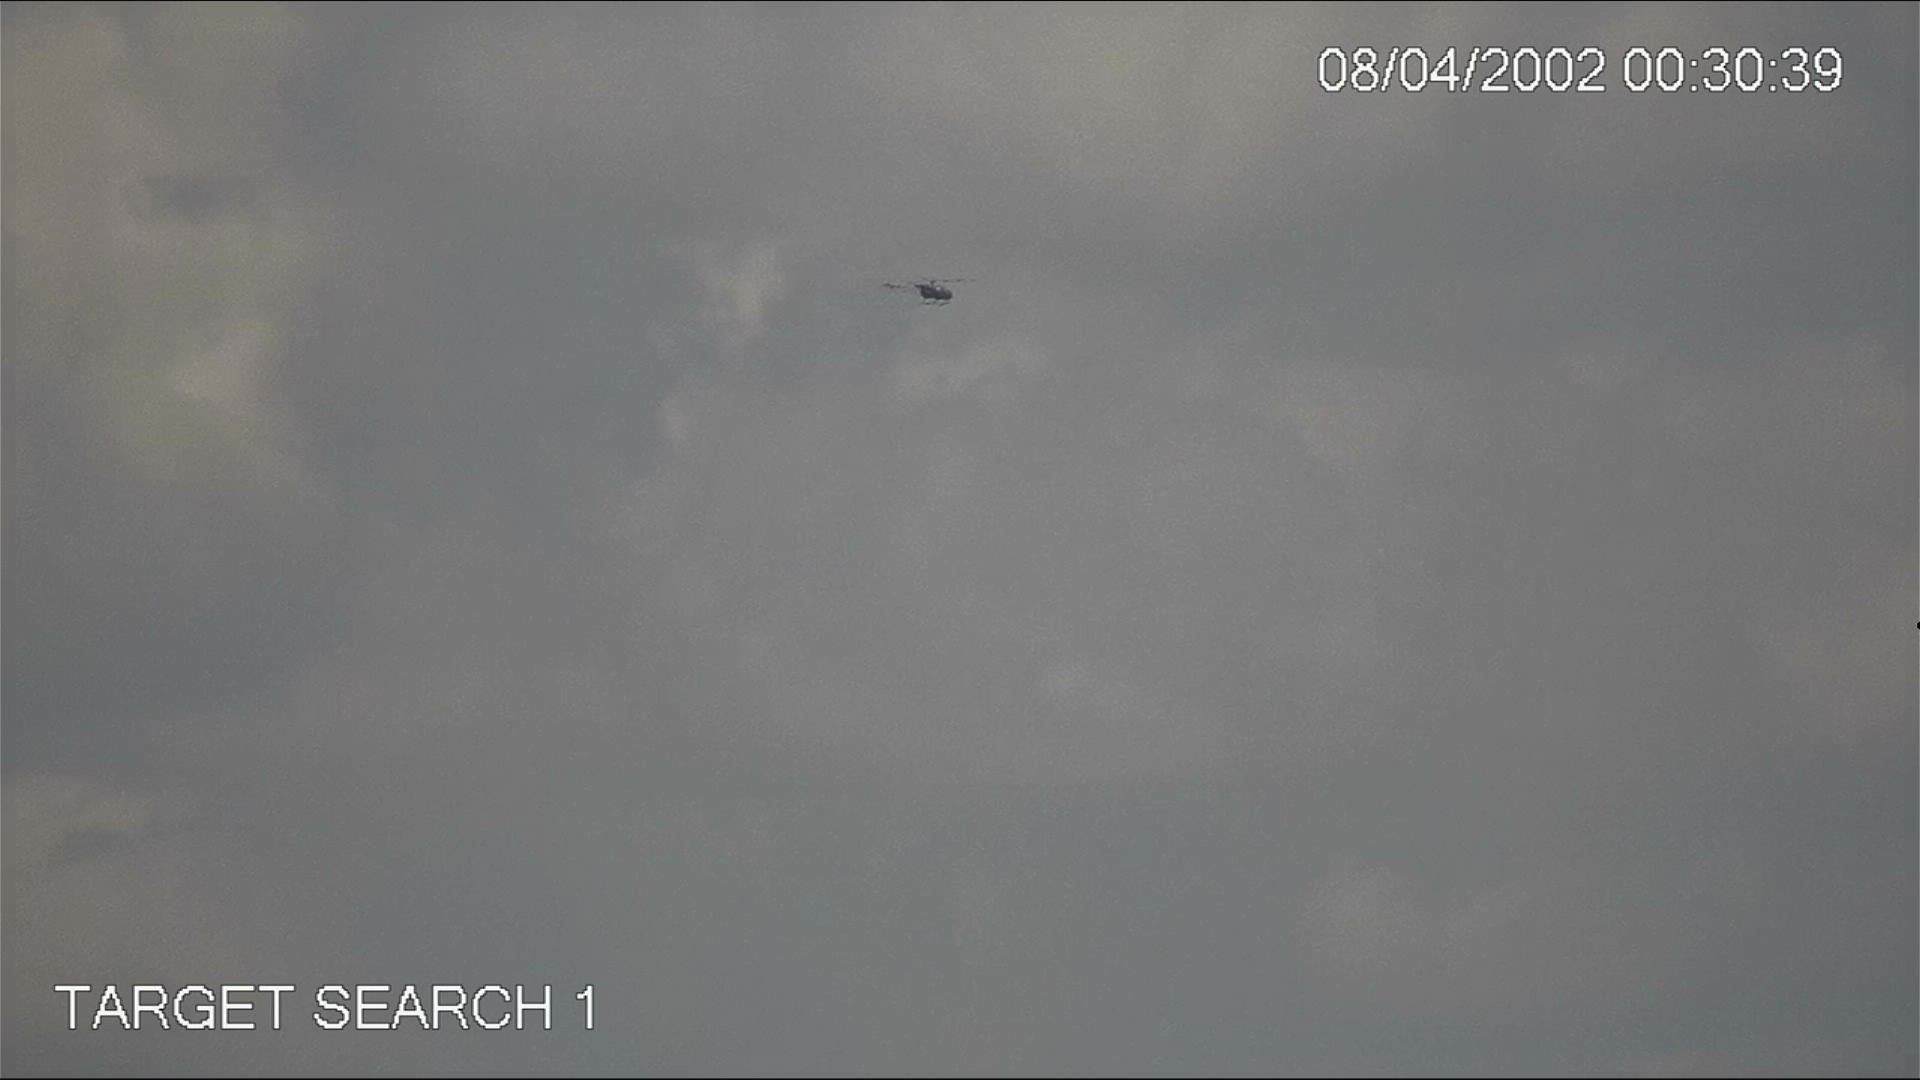SU_30: (881, 276, 973, 307)
